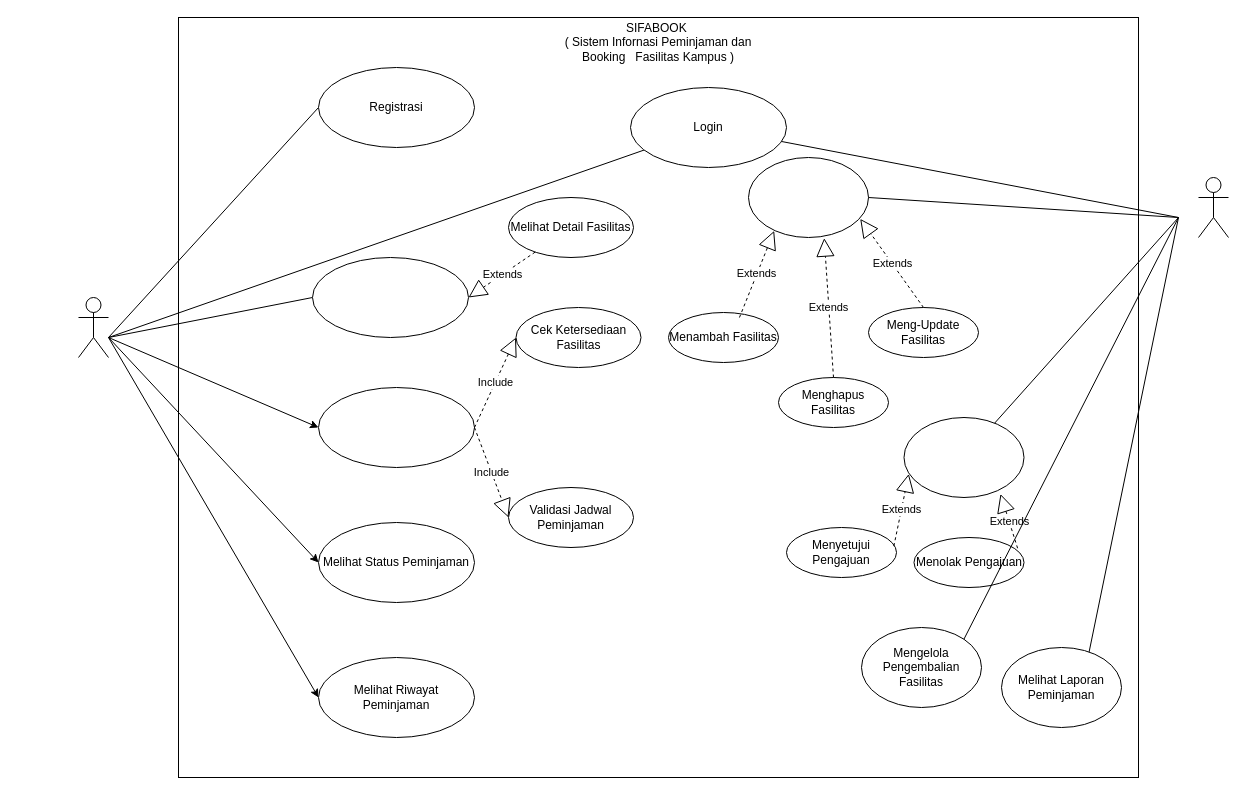
Image size: 1247x795. Some labels were removed from this diagram. Each missing label, with the box of its shape:
Admin: (1198, 176, 1228, 238)
Melihat Daftar Fasilitas: (312, 256, 468, 338)
Melihat Pengajuan Peminjaman: (903, 416, 1024, 498)
Mengajukan Peminjaman / Booking Fasilitas: (318, 386, 474, 468)
Mengelola Data Fasilitas: (748, 156, 868, 238)
User (Mahasiswa dan Dosen): (78, 296, 108, 358)
